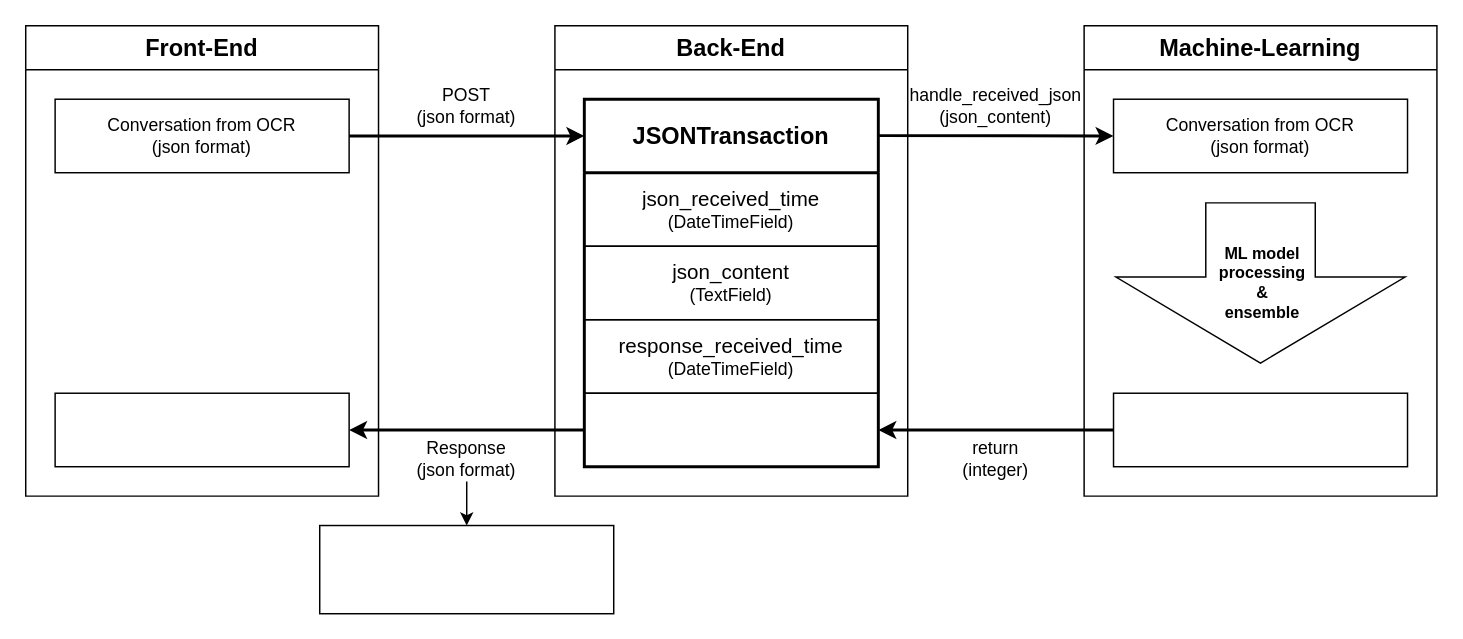
Some shapes in this 1463 by 639 pixel diagram are drawn without their labels. The shapes that lost their labels are listed below. From the top down, each one's centre as x and y in pixels, then its label:
(201,429): Emoticon selector
(730,429): emotion_value (IntegerField)
(1260,429): Emotion value (json format)
(466,569): { "response_data": integer }
